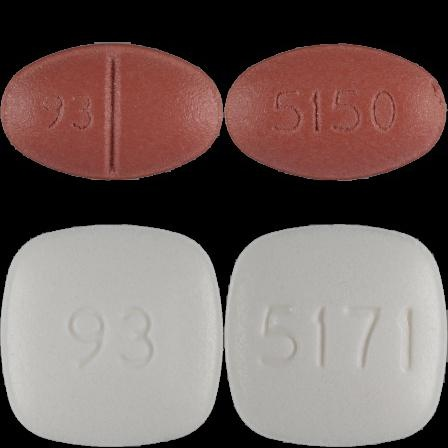0093-5150: (0, 0, 224, 224)
